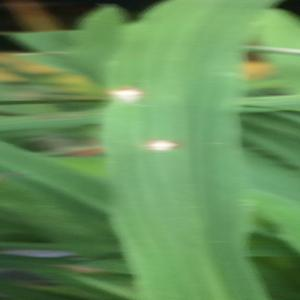Rice_Blast: (125, 129, 194, 168), (94, 82, 146, 114)
